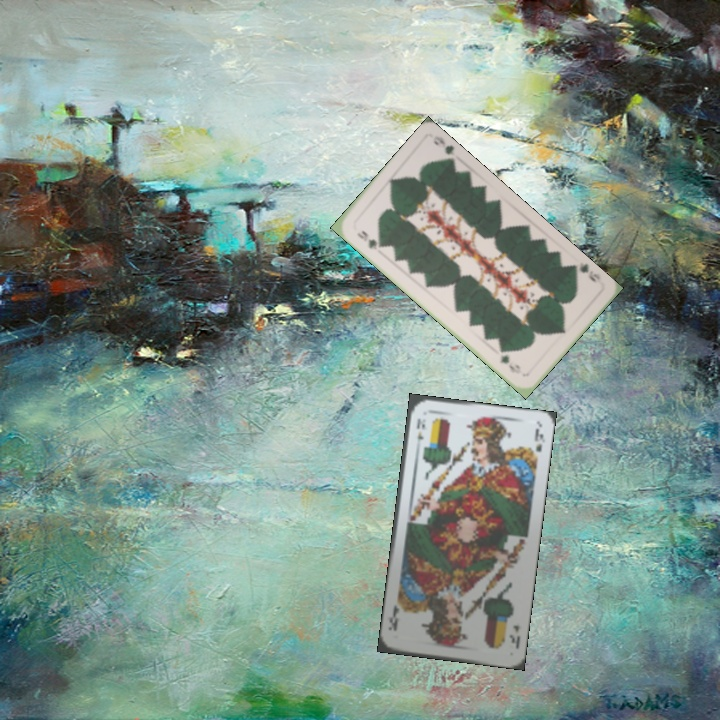EK: (412, 414, 428, 450), (506, 621, 522, 652)
G9: (568, 258, 603, 285), (353, 226, 386, 252)
